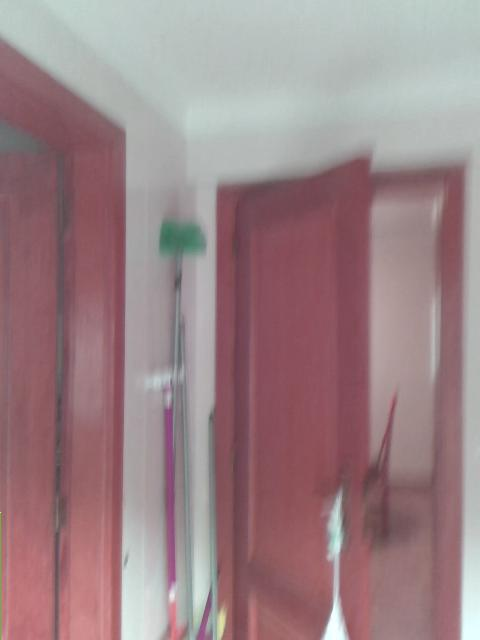semi_door: (209, 142, 468, 639)
